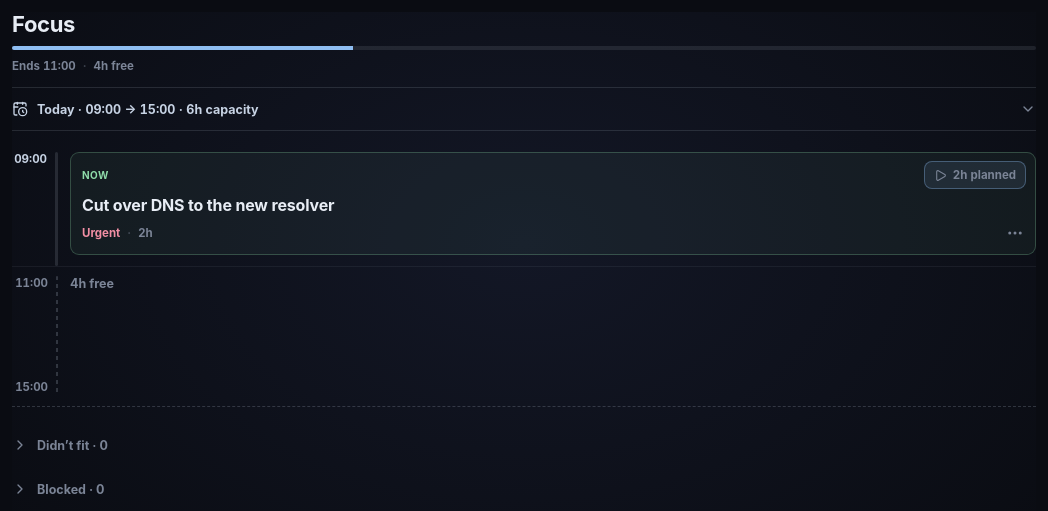
Test: FocusPage › mobile handoff (M05i) › makes the remaining-time readout the start/pause control
The image size is (1048, 511).
Step 1. Click the button with aria-label "Start Cut over DNS" → (975, 175), box [924,153,1026,197]
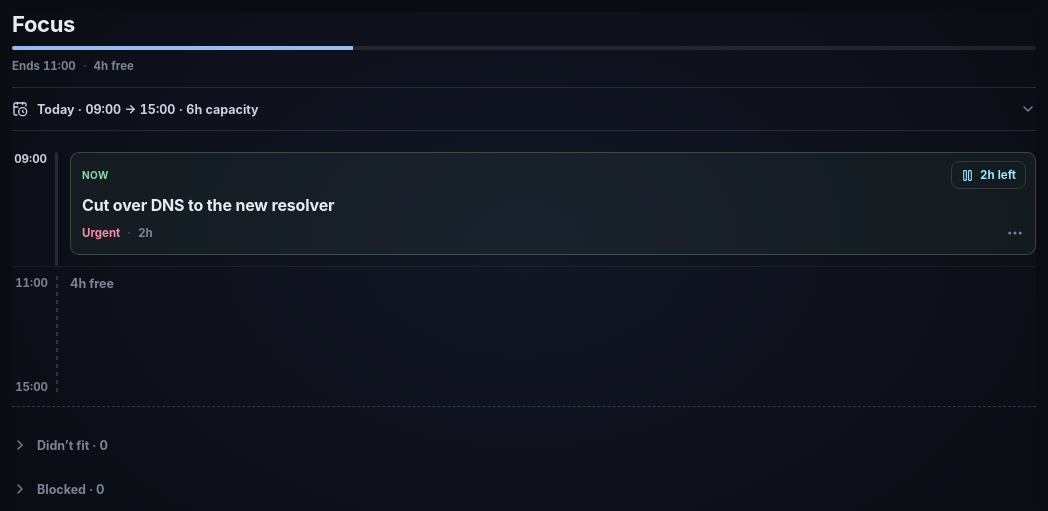
Check: the button with aria-label "Pause Cut over DNS" reads "2h left"
Step 2. Click the button with aria-label "Pause Cut over DNS" → (988, 175), box [951,153,1026,197]
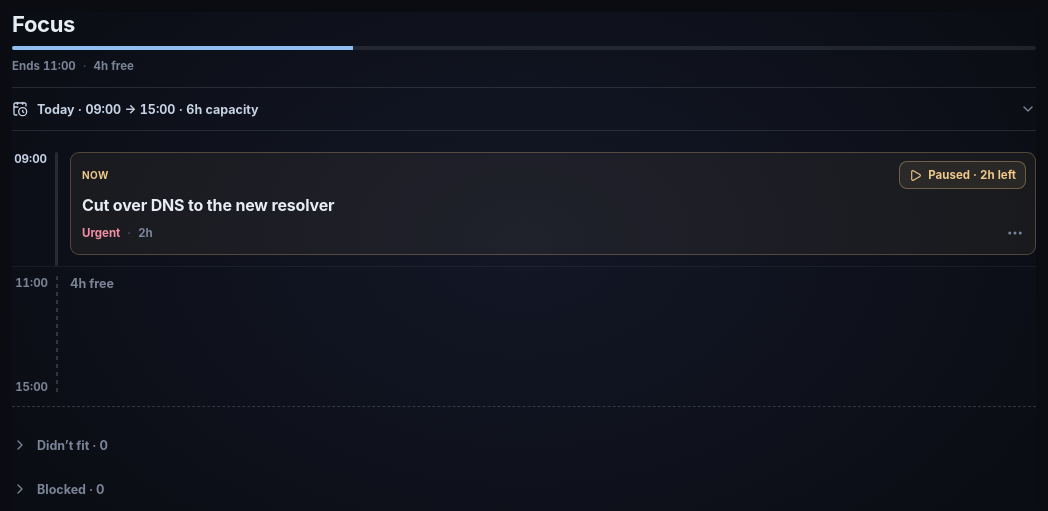
Check: the button with aria-label "Resume Cut over DNS" reads "Paused · 2h left", box [899,153,1026,197]
